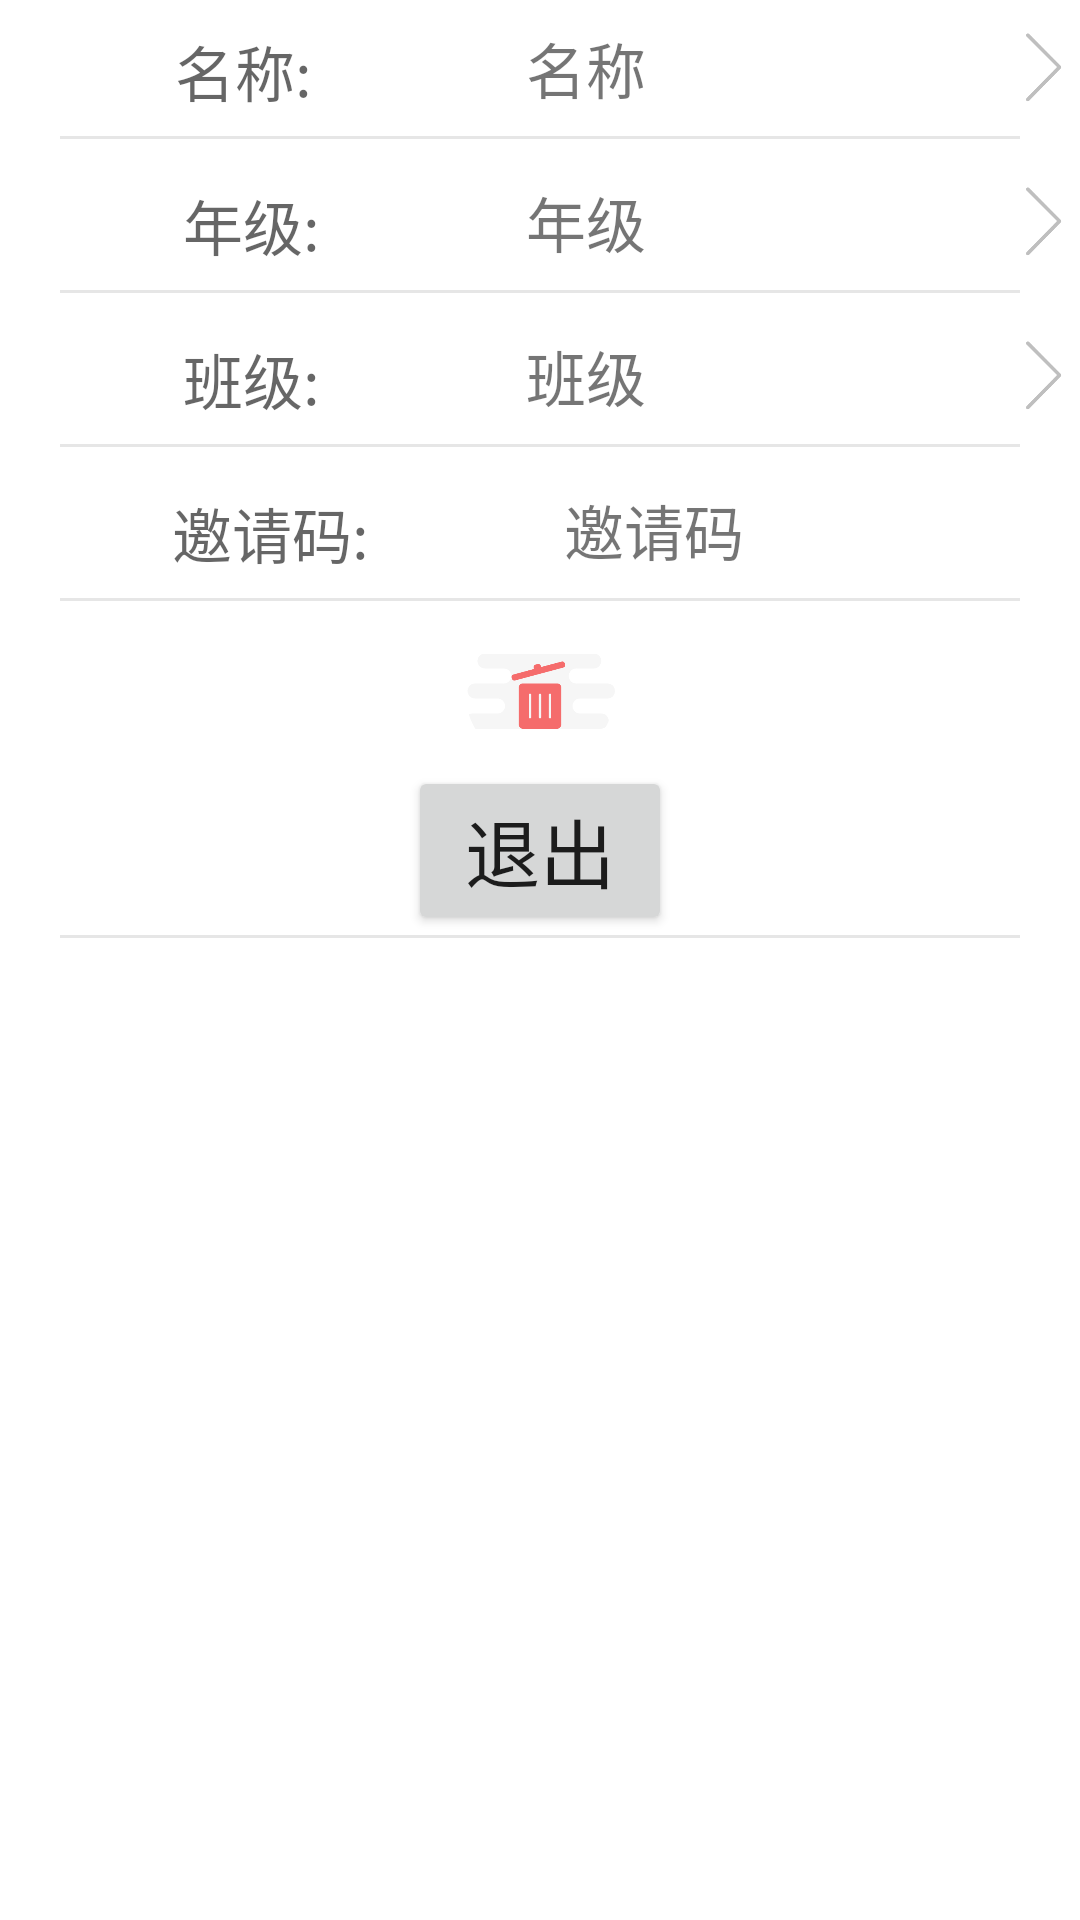

Icon bounding boxes for this 1080px×1920px phone screenshot, format bbox(x1, y1, x2, y2):
delete: bbox(511, 661, 565, 729)
rightp: bbox(1026, 33, 1061, 101), bbox(1026, 187, 1061, 255), bbox(1026, 341, 1061, 409)
